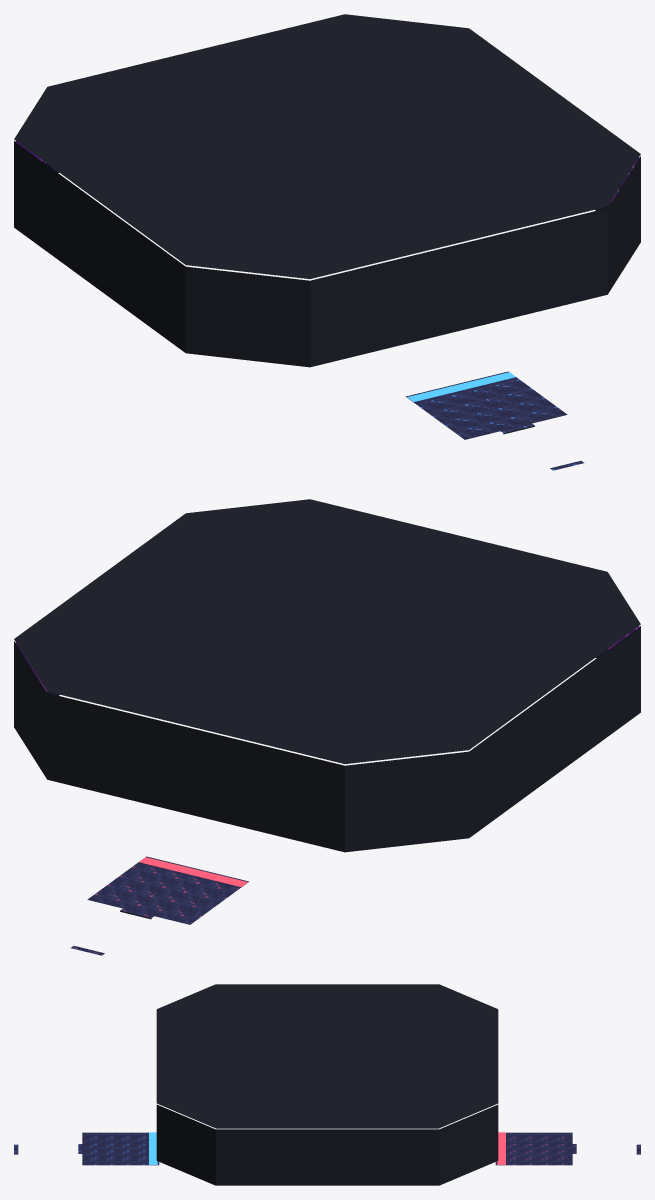
The model's file is kb_roof_v35.glb.
The picture shows the model from 3 angles, top to bottom: view 1: azimuth 30°, elevation 25°; view 2: azimuth 150°, elevation 25°; view 3: azimuth 270°, elevation 25°; orthographic projection. The views are drawn at different scales.
Visible parts, largest first — view 1: skin; view 2: skin; view 3: skin.
Boxes of the visible parts, x1,y1,x2,y2 form: skin: [14, 14, 640, 470]; skin: [14, 499, 640, 955]; skin: [14, 984, 640, 1185].
Bounding box in the file's own units: 127 × 38.34 × 234.
Materials: 9 (4 with a texture image).
